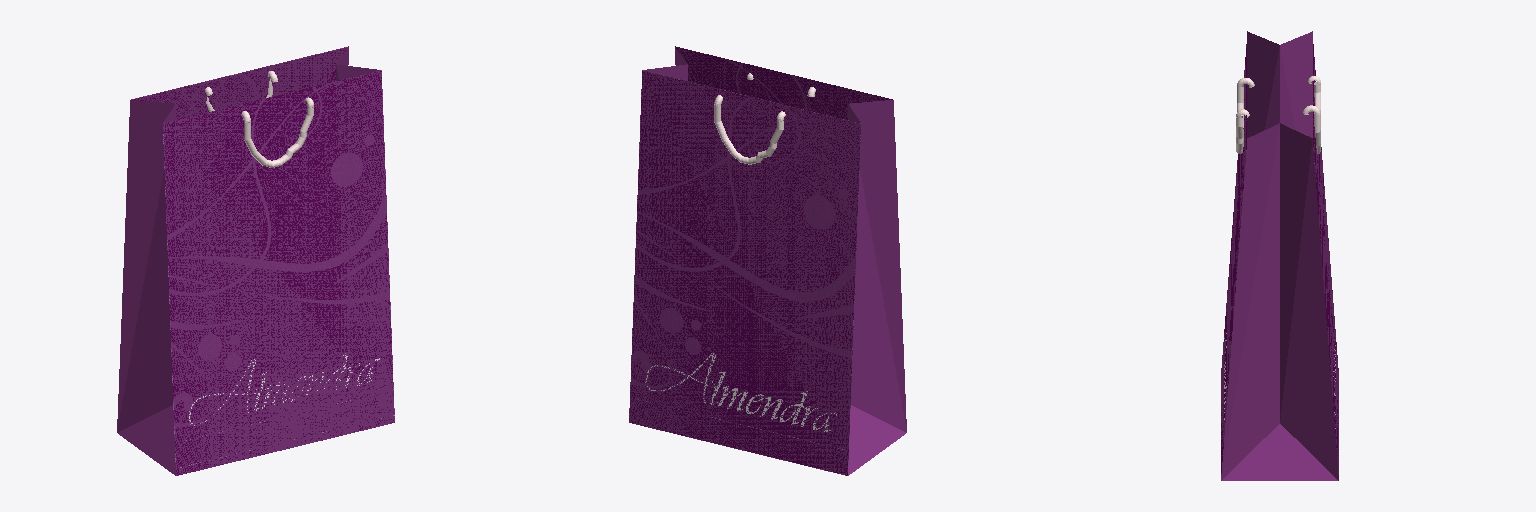
The picture shows the model from 3 angles: view 1: azimuth 30°, elevation 25°; view 2: azimuth 150°, elevation 25°; view 3: azimuth 270°, elevation 25°; orthographic projection.
Visible parts, largest first — view 1: mesh75_mesh75-geometry, mesh38_mesh38-geometry; view 2: mesh75_mesh75-geometry, mesh1_mesh1-geometry; view 3: mesh75_mesh75-geometry, mesh38_mesh38-geometry, mesh1_mesh1-geometry.
Boxes of the visible parts, box(x1,y1,x2,y2) form: mesh75_mesh75-geometry: box(117, 46, 394, 475); mesh38_mesh38-geometry: box(241, 97, 313, 167); mesh75_mesh75-geometry: box(629, 46, 906, 475); mesh1_mesh1-geometry: box(714, 95, 785, 164); mesh75_mesh75-geometry: box(1221, 31, 1338, 480); mesh38_mesh38-geometry: box(1236, 78, 1254, 153); mesh1_mesh1-geometry: box(1303, 76, 1320, 153).
Size of the model in its own units: 0.537 by 0.8055 by 0.2506.
4 materials, 1 textured.